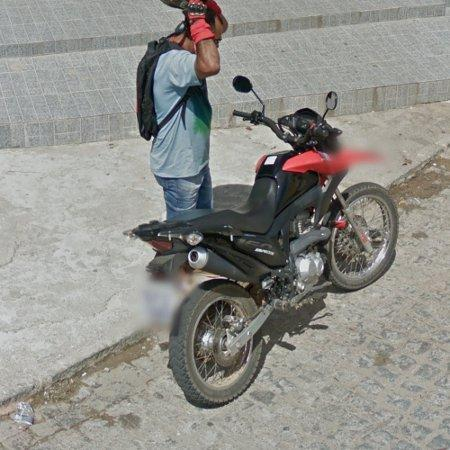motorcycles: (129, 75, 400, 409)
